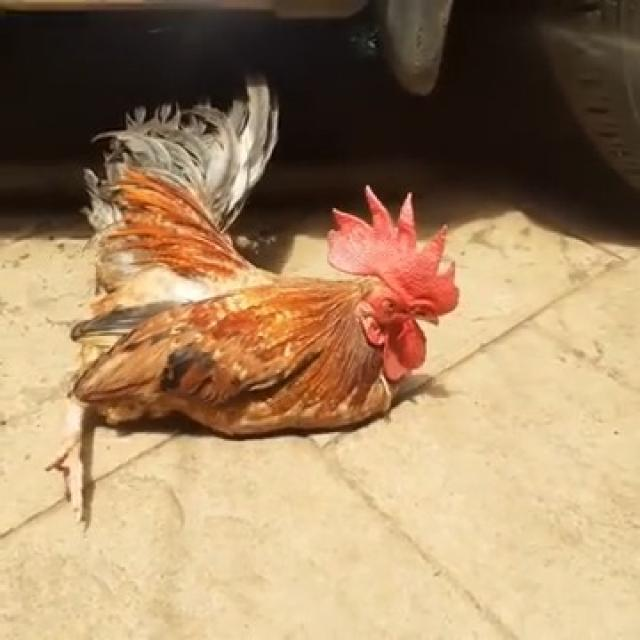sleeping chickens: (52, 87, 490, 459)
